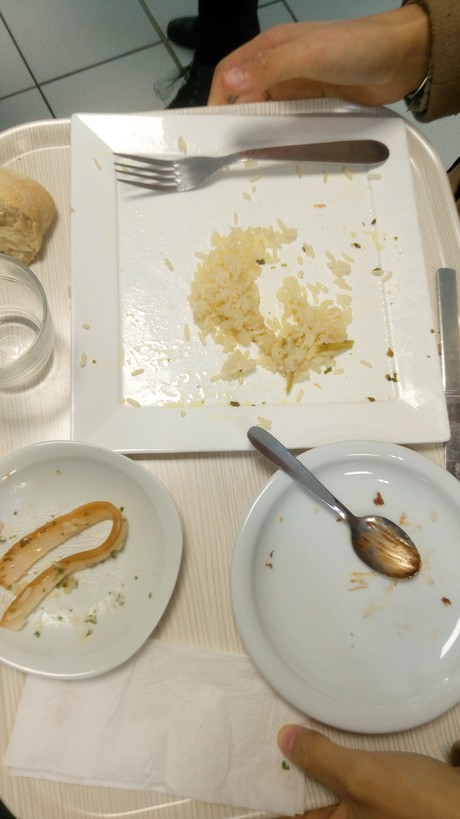cup: (1, 279, 59, 402)
cutlery: (245, 426, 428, 582), (100, 130, 392, 188)
orga: (205, 232, 359, 394), (22, 512, 134, 620), (1, 169, 57, 272)
trash: (5, 689, 291, 818)
